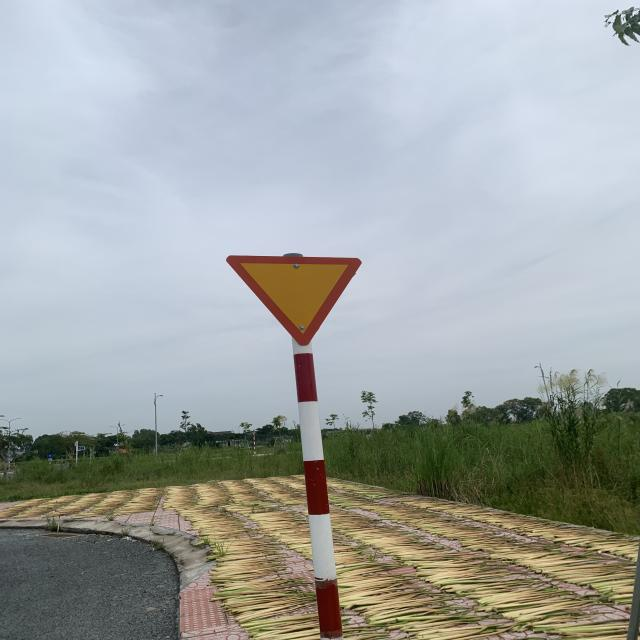Gioi_Han_Toc_Do_25: (226, 254, 363, 346)
